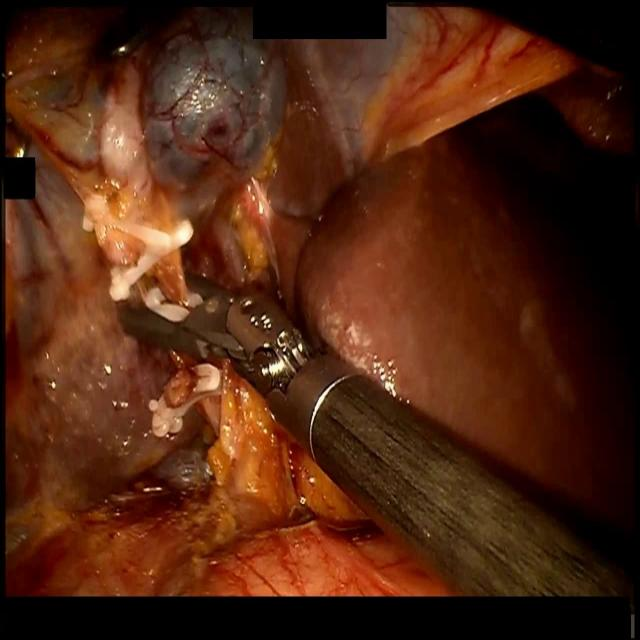surgical-area: (4, 0, 640, 598)
surgical-tool: (116, 274, 640, 595)
